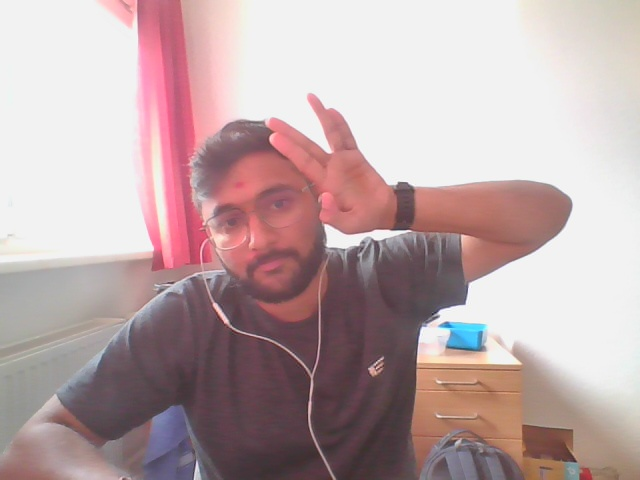LiveLong: (267, 93, 389, 234)
